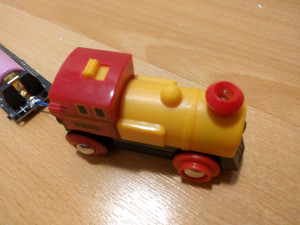brio: (49, 39, 251, 183)
